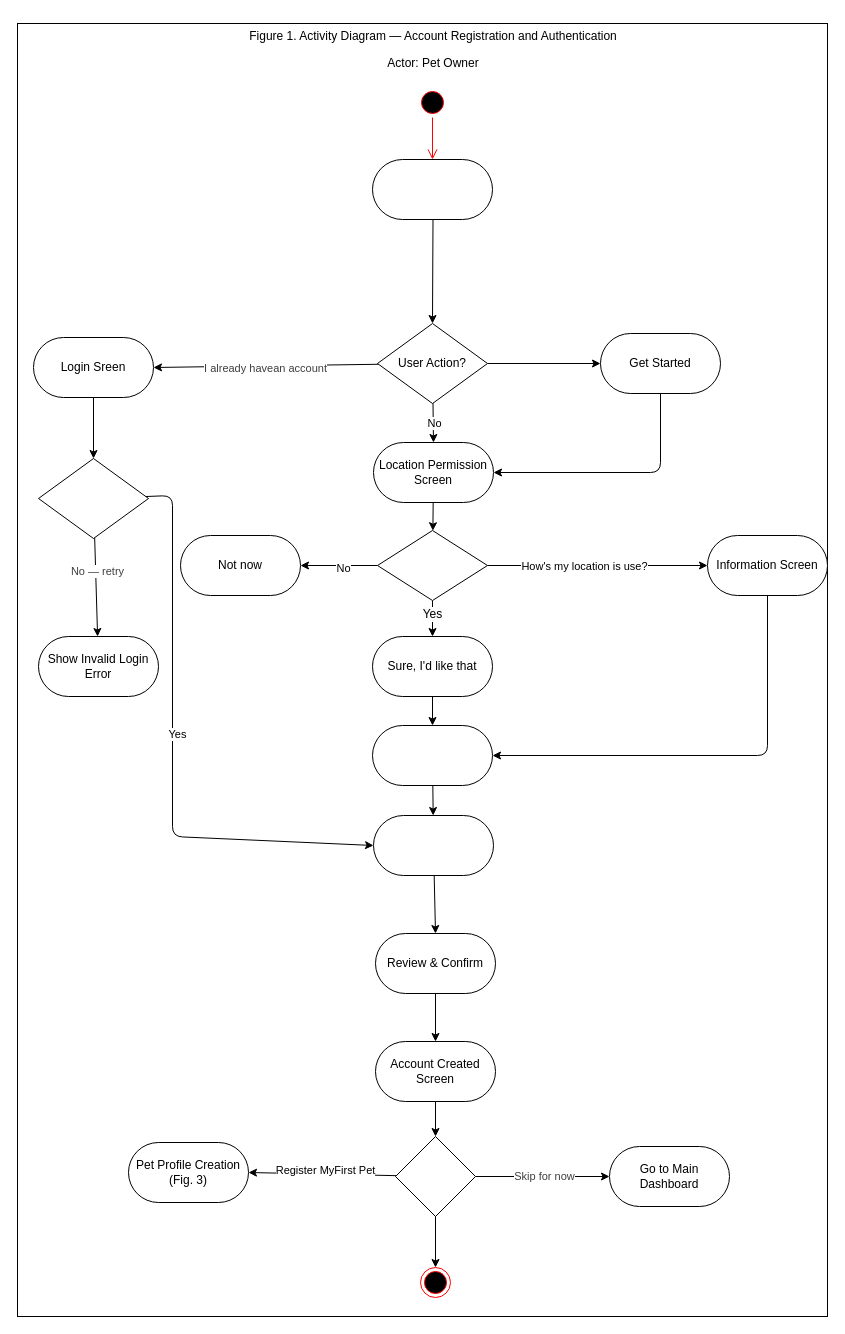
Image size: 845x1334. Some labels were removed from this diagram. Here are the shapes that lost their labels. From the top down, the centre of each, then its label:
point (432, 189): Open app
point (93, 498): Credentials Valid?
point (432, 565): Which option selected?
point (432, 755): Create Account
point (433, 845): About You
point (435, 1176): Next Action?
